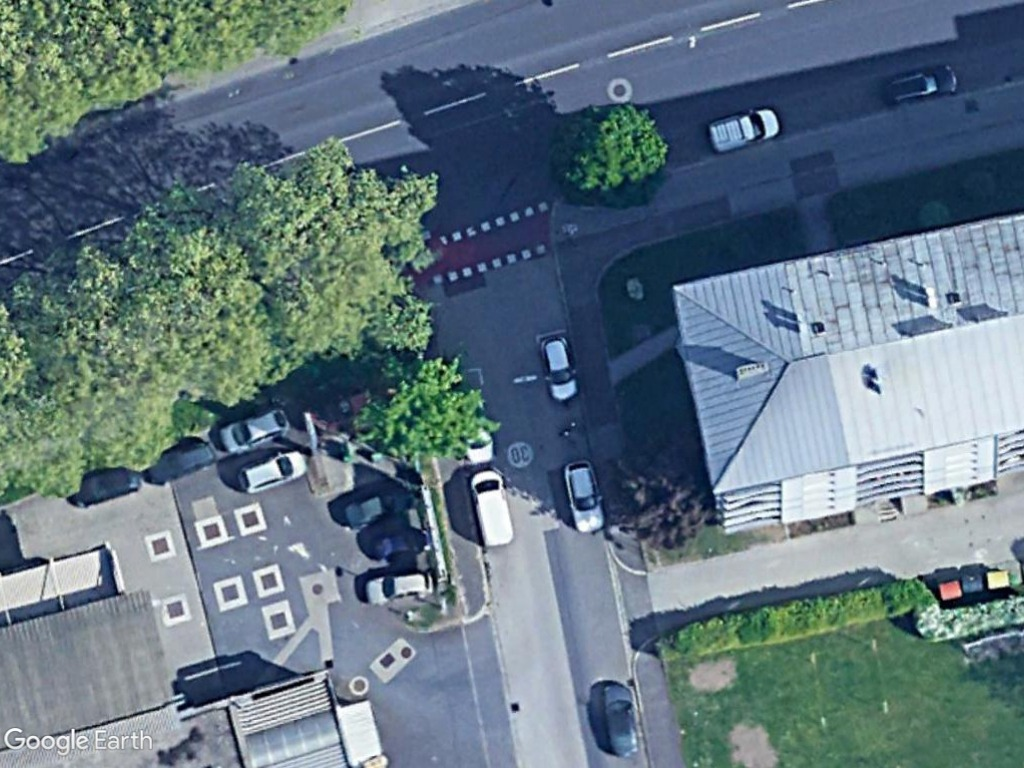car: (878, 61, 962, 106), (560, 456, 606, 536), (236, 448, 309, 497), (361, 564, 440, 609), (215, 407, 292, 453), (600, 679, 641, 760), (539, 331, 578, 408)
van: (465, 468, 518, 552), (704, 105, 784, 152)
